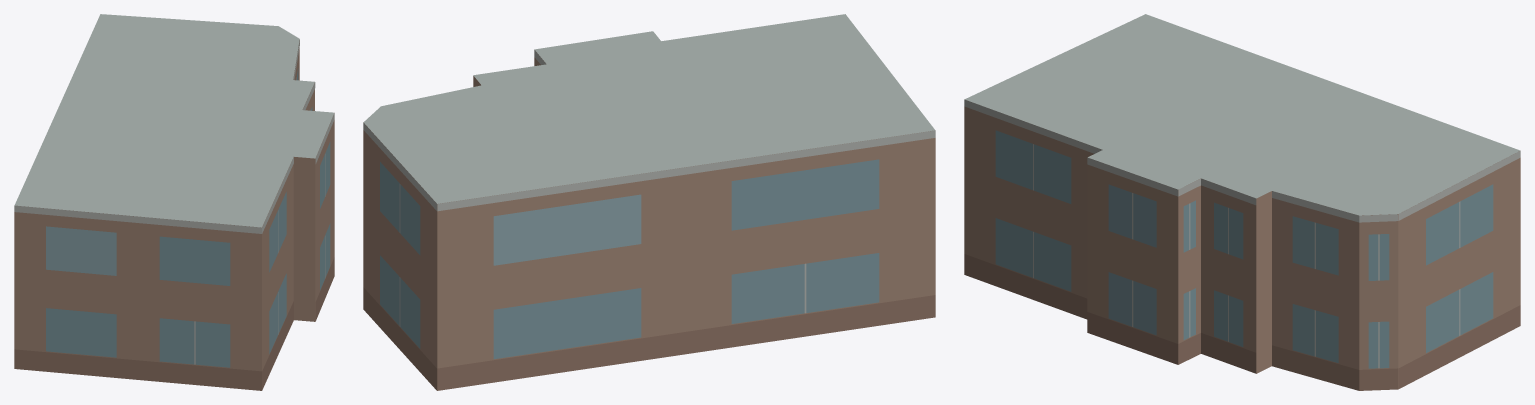
File: survey-upis-32698043.glb
3 views of the same model, side by side, from view 1: azimuth 30°, elevation 25°; view 2: azimuth 150°, elevation 25°; view 3: azimuth 270°, elevation 25° (orthographic). The views are drawn at different scales.
Visible parts, largest first — view 1: survey-upis-32698043.tmp; view 2: survey-upis-32698043.tmp; view 3: survey-upis-32698043.tmp.
Boxes of the visible parts, x1=… form: survey-upis-32698043.tmp: x1=14, y1=14, x2=334, y2=390; survey-upis-32698043.tmp: x1=363, y1=14, x2=935, y2=390; survey-upis-32698043.tmp: x1=964, y1=14, x2=1520, y2=390.
Size of the model in its own units: 15.05 by 6.1 by 17.55.
